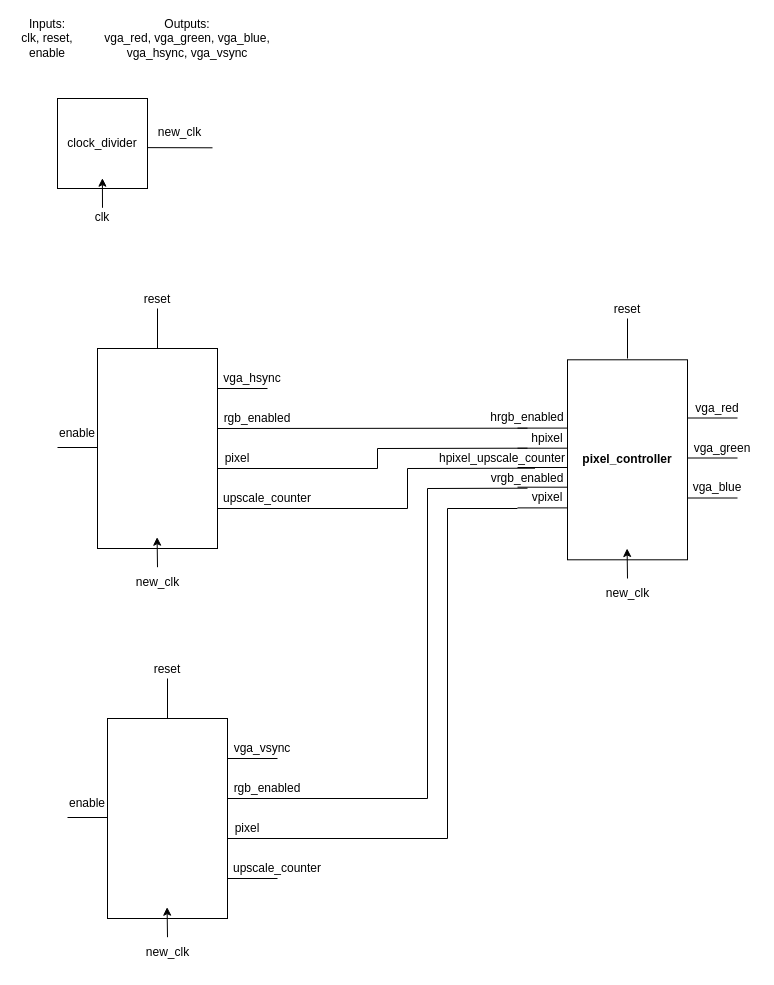
Some shapes in this 774 by 985 pixel diagram are drawn without their labels. The box of each missing label's shape, as (x1, y1, x2, y2) in pixels:
gsync_controller (hsync_inst): (96, 348, 218, 548)
gsync_controller (vsync_inst): (106, 718, 228, 918)
